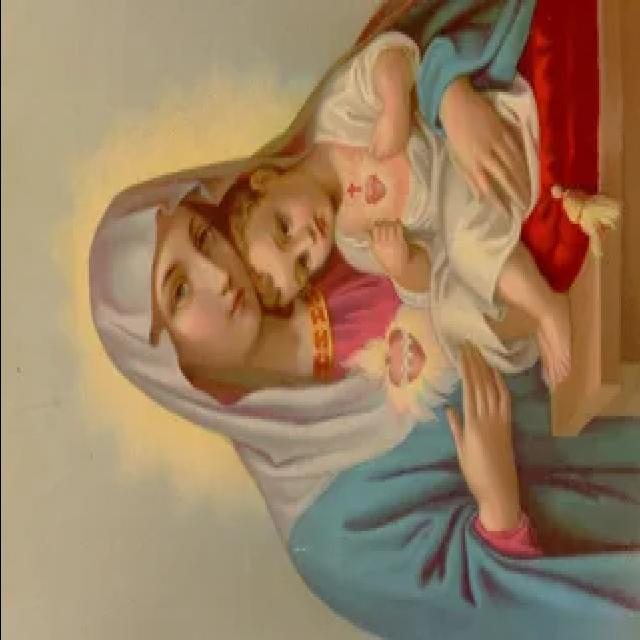mother of god: (76, 10, 640, 640)
